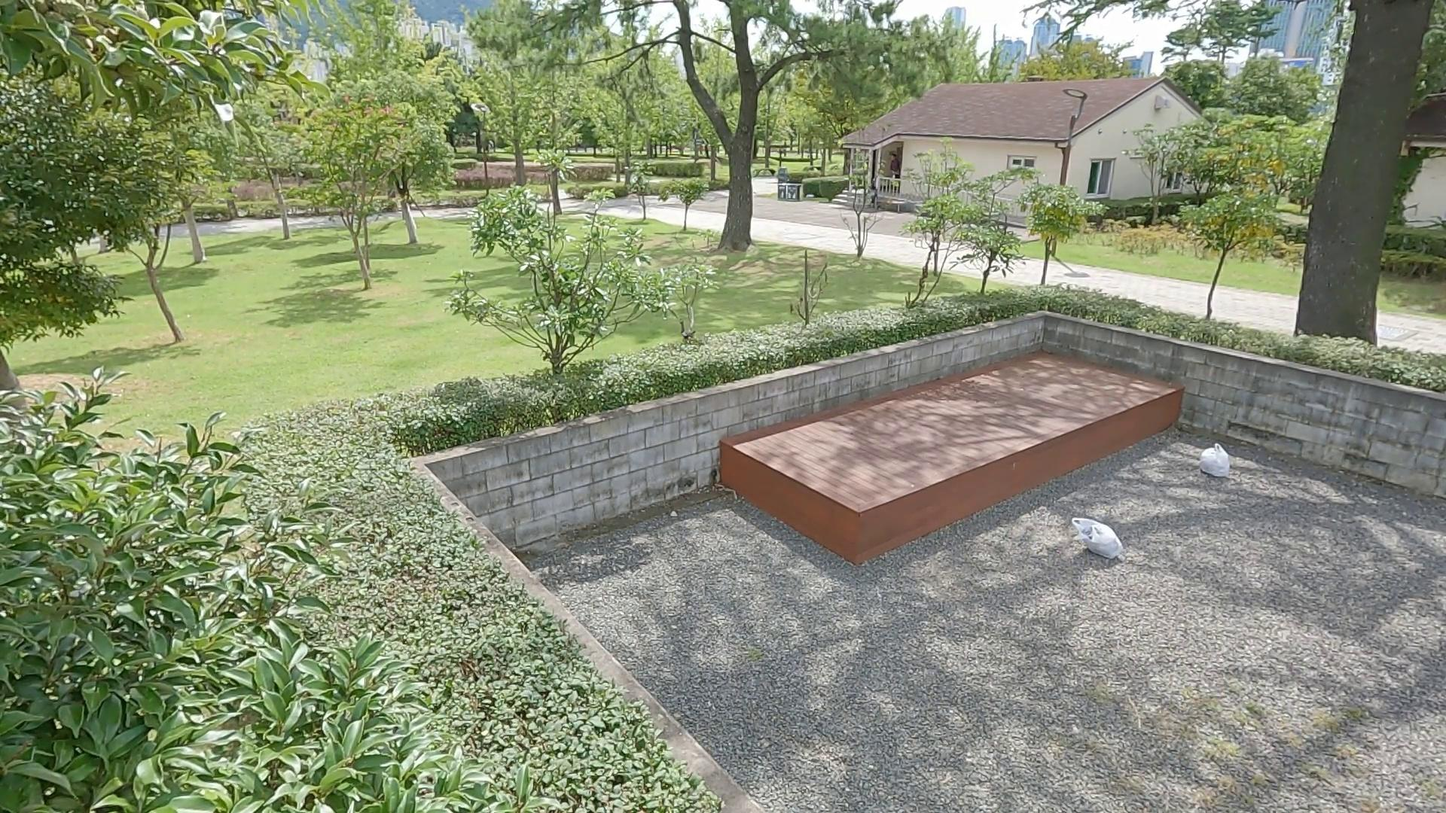trash: (1071, 516, 1125, 560), (1198, 443, 1234, 479)
